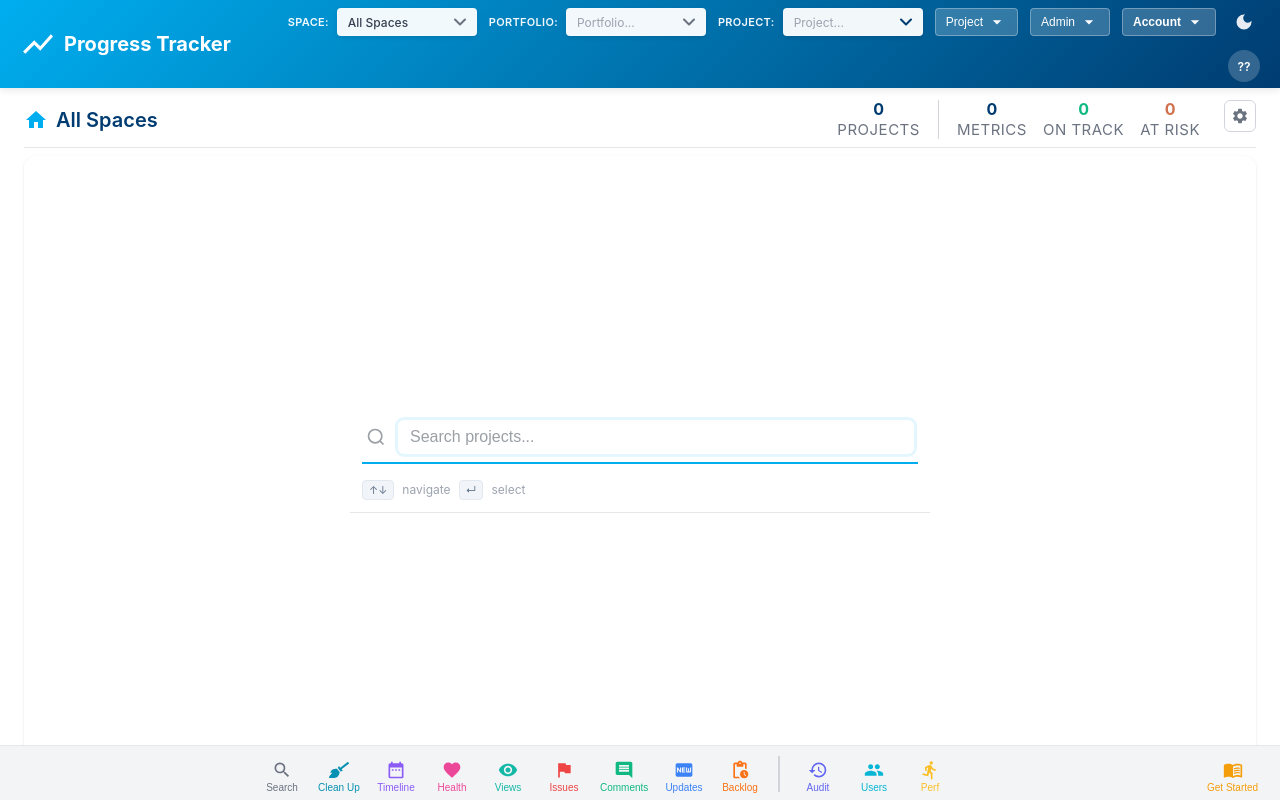
Scenario: App Dropdown Race Conditions › User Dropdown (Account Menu) › should close dropdown when logout is clicked
Note: Open user dropdown
Click the button "Account".
click(1169, 22)  # box x1=1122 y1=8 x2=1216 y2=36
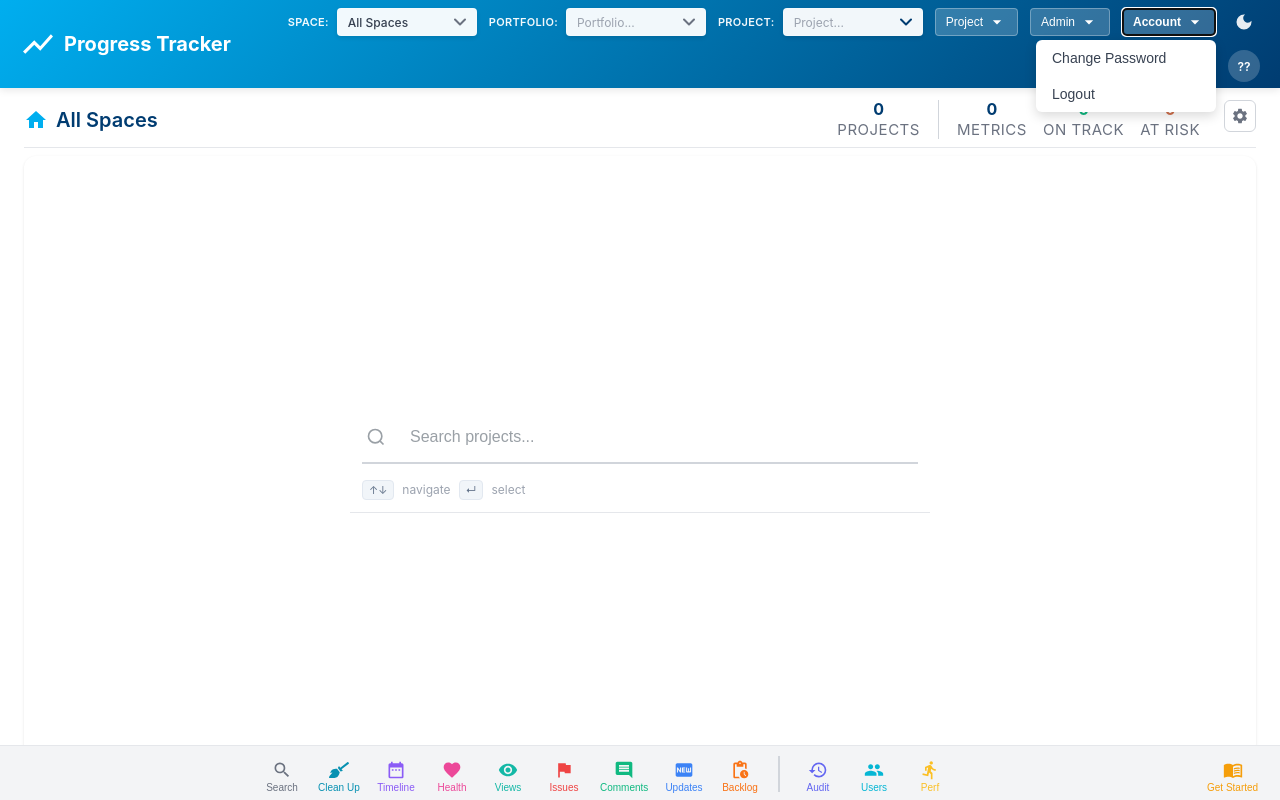
Result: the button "Logout" is shown
Note: Click logout
Click the button "Logout".
click(1126, 94)  # box x1=1036 y1=76 x2=1216 y2=112
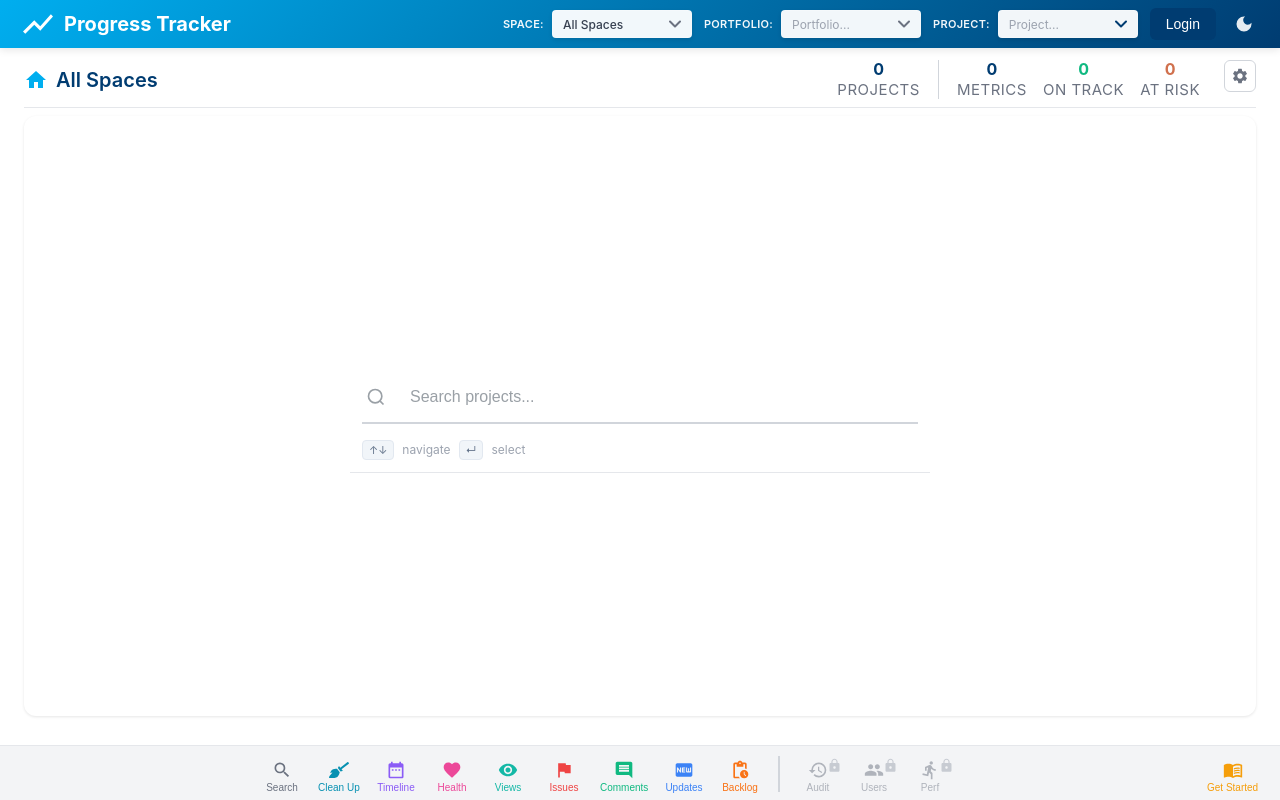
Result: the button "Logout" is gone
